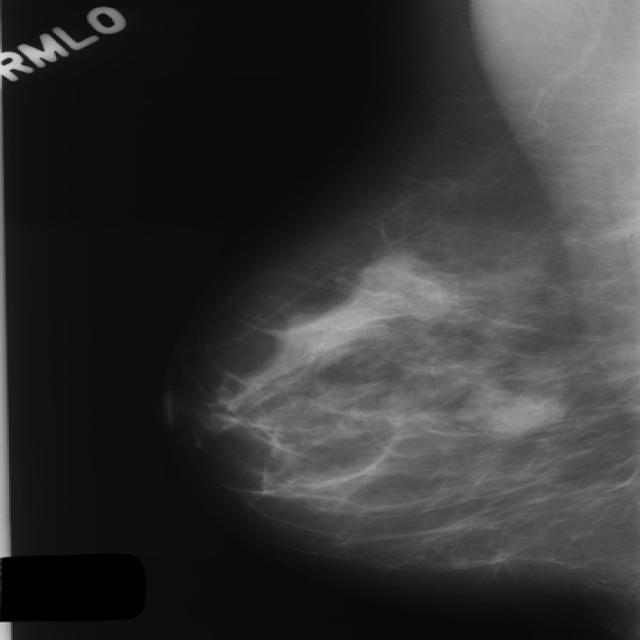tumour: (458, 386, 562, 434)
